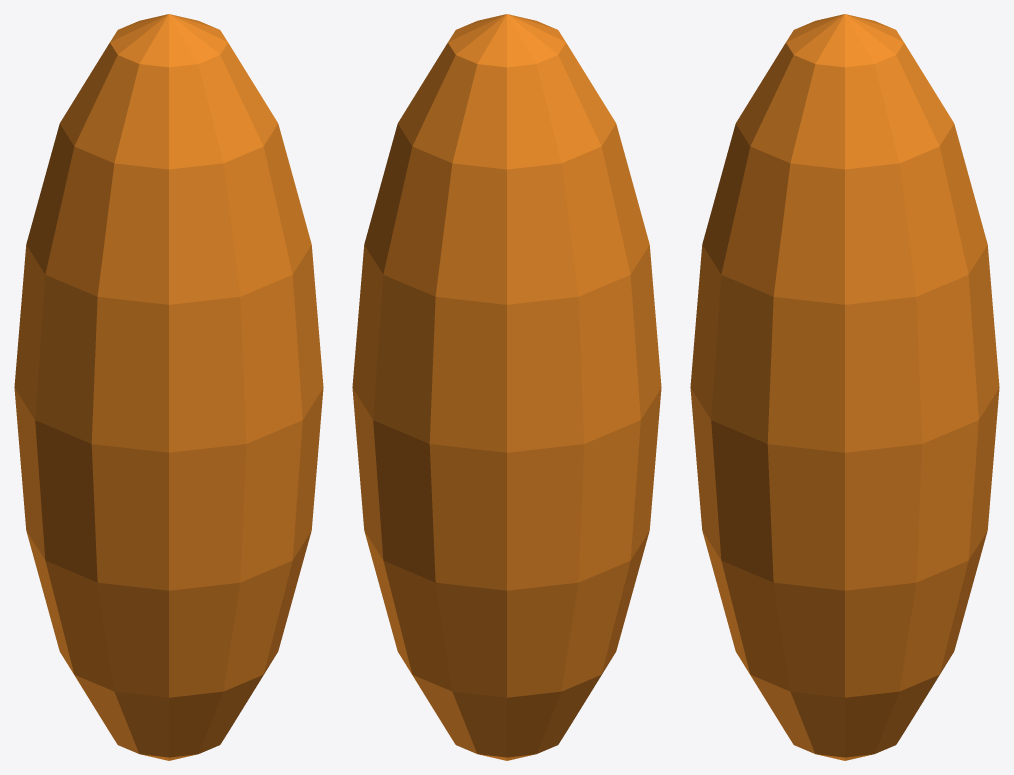
File: WickFlame.fbx
The picture shows the model from 3 angles, left to right: view 1: azimuth 30°, elevation 25°; view 2: azimuth 150°, elevation 25°; view 3: azimuth 270°, elevation 25°; orthographic projection.
Visible parts, largest first — view 1: WickFlame; view 2: WickFlame; view 3: WickFlame.
Boxes of the visible parts, x1,y1,x2,y2 form: WickFlame: [14, 14, 323, 760]; WickFlame: [352, 14, 661, 760]; WickFlame: [690, 14, 999, 760].
Bounding box in the file's own units: 2.4 × 6.4 × 2.4.
Materials: 1 (1 with a texture image).
